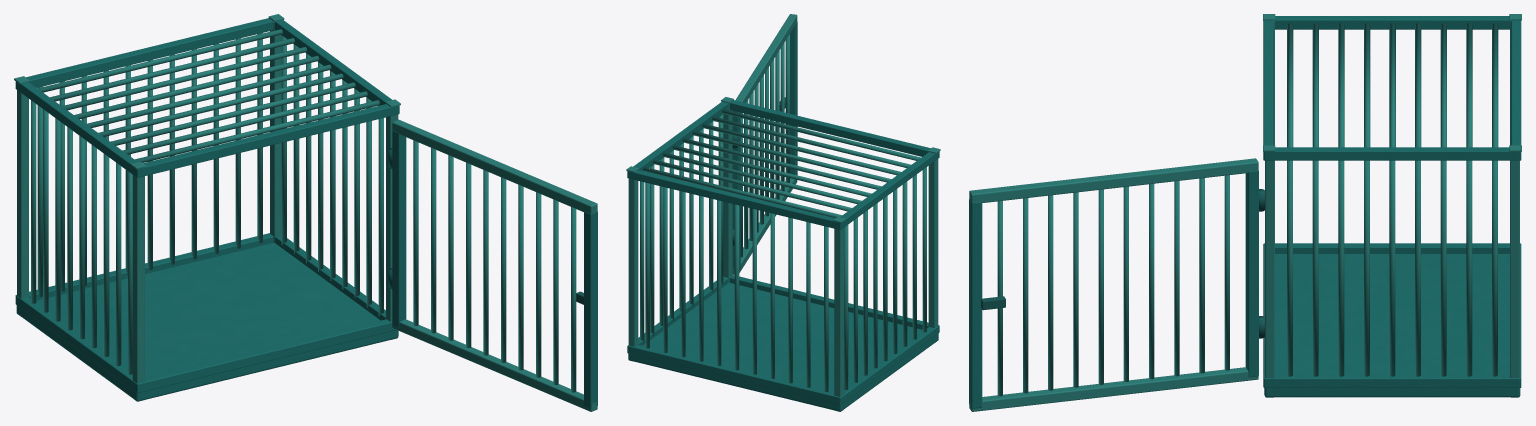
The model's file is 11_Teal_Dog_Cage.fbx.
The picture shows the model from 3 angles, left to right: view 1: azimuth 30°, elevation 25°; view 2: azimuth 150°, elevation 25°; view 3: azimuth 270°, elevation 25°; orthographic projection. The views are drawn at different scales.
Visible parts, largest first — view 1: 11_Teal_Dog_Cage_Mesh, 11_Teal_Dog_Cage_Door; view 2: 11_Teal_Dog_Cage_Mesh, 11_Teal_Dog_Cage_Door; view 3: 11_Teal_Dog_Cage_Mesh, 11_Teal_Dog_Cage_Door.
Boxes of the visible parts, x1,y1,x2,y2 form: 11_Teal_Dog_Cage_Mesh: (14,14,400,401); 11_Teal_Dog_Cage_Door: (388,119,597,411); 11_Teal_Dog_Cage_Mesh: (626,97,940,411); 11_Teal_Dog_Cage_Door: (732,14,797,274); 11_Teal_Dog_Cage_Mesh: (1263,14,1521,397); 11_Teal_Dog_Cage_Door: (969,158,1264,411).
Bounding box in the file's own units: 99.77 × 68.55 × 138.
1 material, 1 textured.
